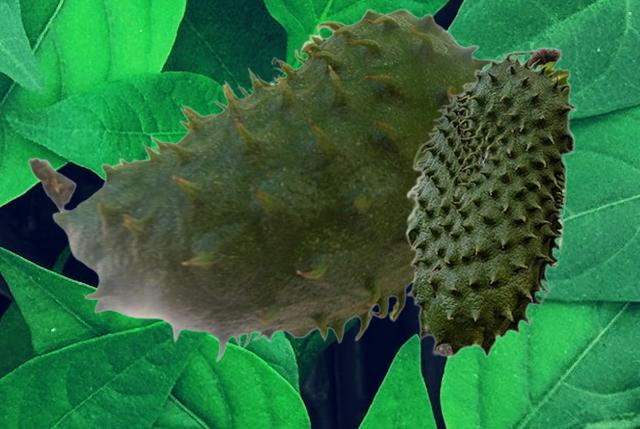guyabano: (27, 8, 499, 362), (404, 46, 576, 357)
